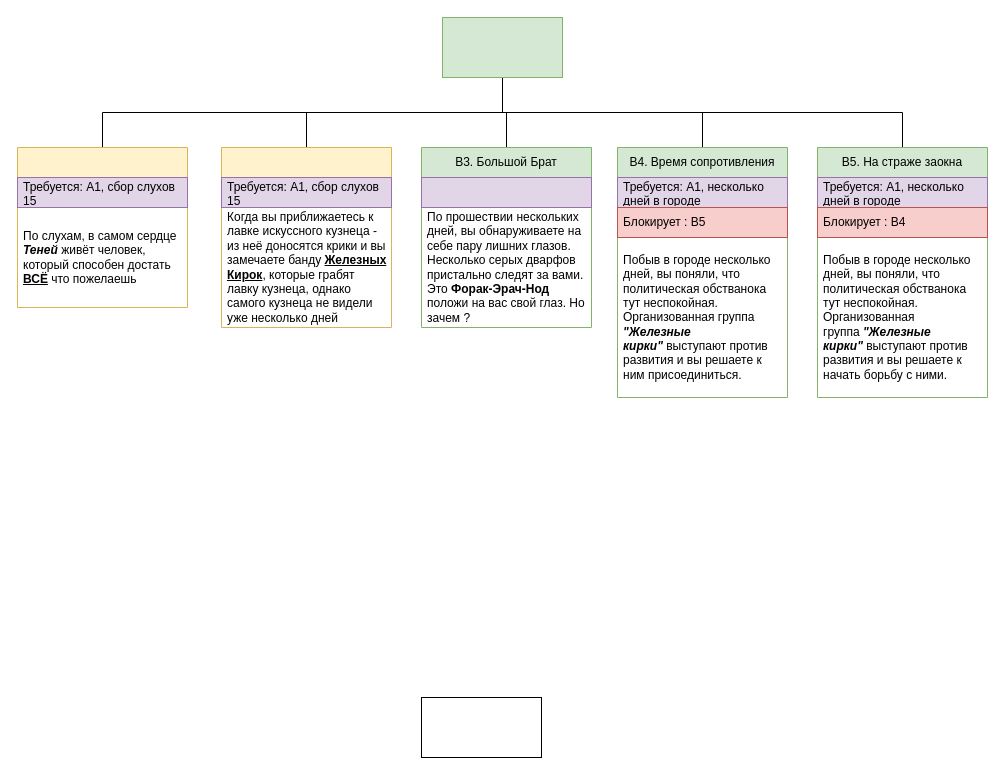
Image size: 1005x775. Some labels were removed from this diagram. Here are the shapes that lost their labels. From the top down, the box of each, then its label:
(442, 16, 562, 78): А1. Прибытие в Каранос
(420, 176, 592, 208): Требуется: А1
(16, 146, 188, 308): В1. Инструменты торговли
(220, 146, 392, 328): В2. Мечи и Пиво
(420, 696, 542, 758): Х1. Возвращение Аззалина
